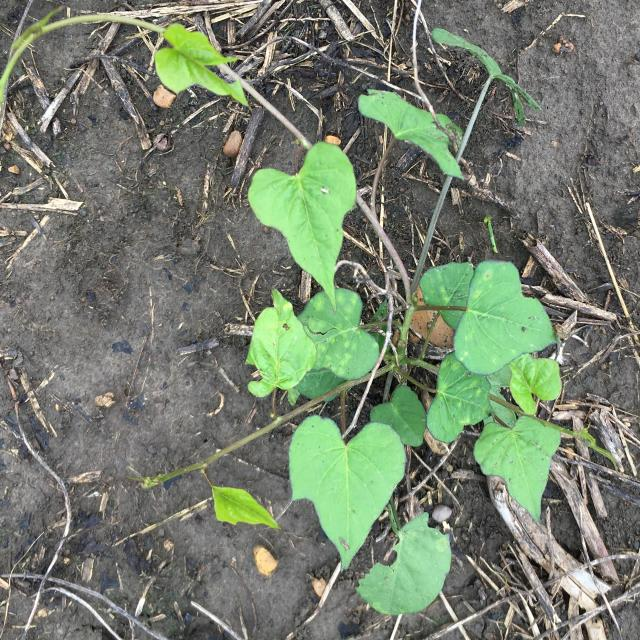MorningGlory: (0, 6, 614, 615)
